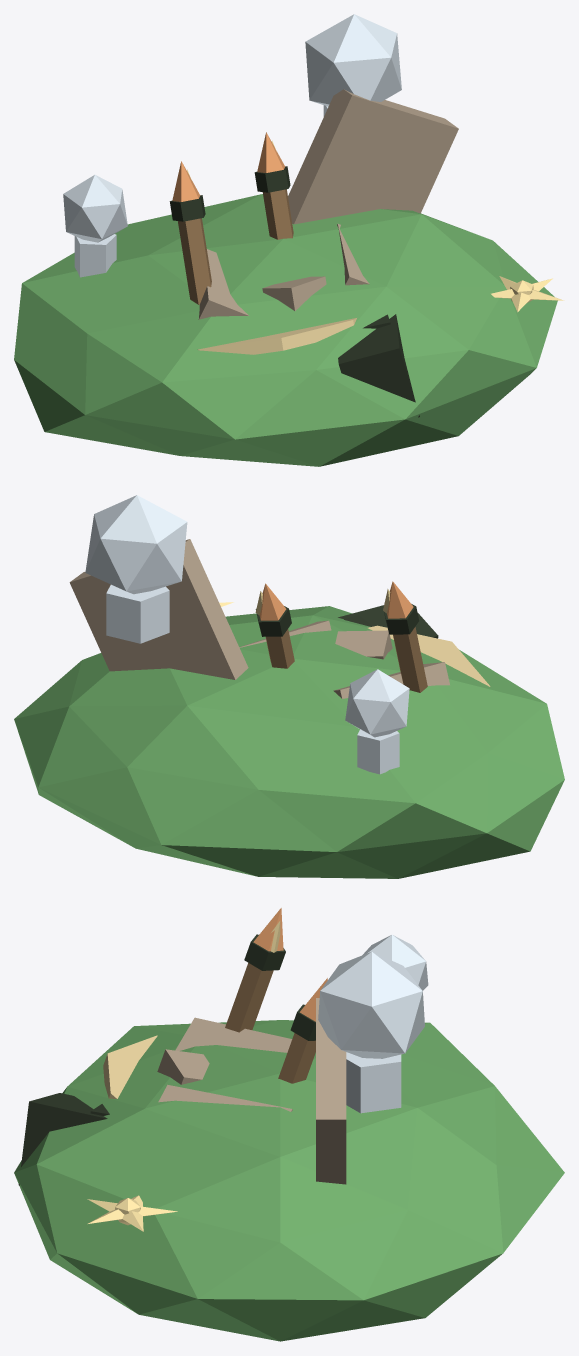
The model's file is jungle-ruin.glb.
The picture shows the model from 3 angles, top to bottom: view 1: azimuth 30°, elevation 25°; view 2: azimuth 150°, elevation 25°; view 3: azimuth 270°, elevation 25°; orthographic projection. The views are drawn at different scales.
Visible parts, largest first — view 1: jungle-ruin; view 2: jungle-ruin; view 3: jungle-ruin.
Part boxes in pixels (x1,y1,x2,y2): jungle-ruin: [14, 14, 564, 466]; jungle-ruin: [14, 495, 564, 878]; jungle-ruin: [14, 908, 564, 1341].
Size of the model in its own units: 1.19 by 0.7194 by 1.08.
